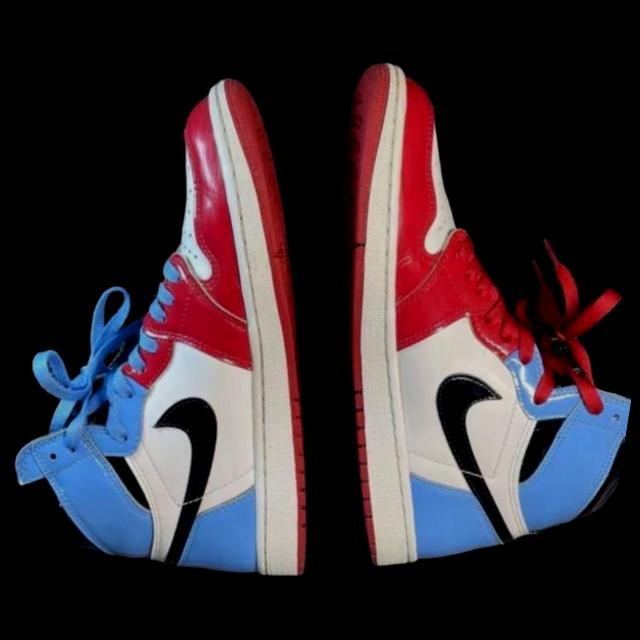nike_original_jordan: (218, 0, 640, 617), (0, 37, 395, 640)
